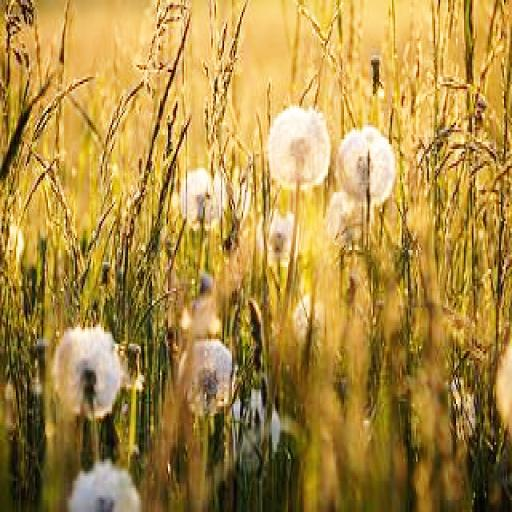dandelion: (54, 327, 120, 423), (269, 108, 331, 188), (174, 344, 237, 413), (336, 125, 395, 197), (69, 459, 139, 512), (182, 170, 224, 230), (261, 209, 299, 265)
